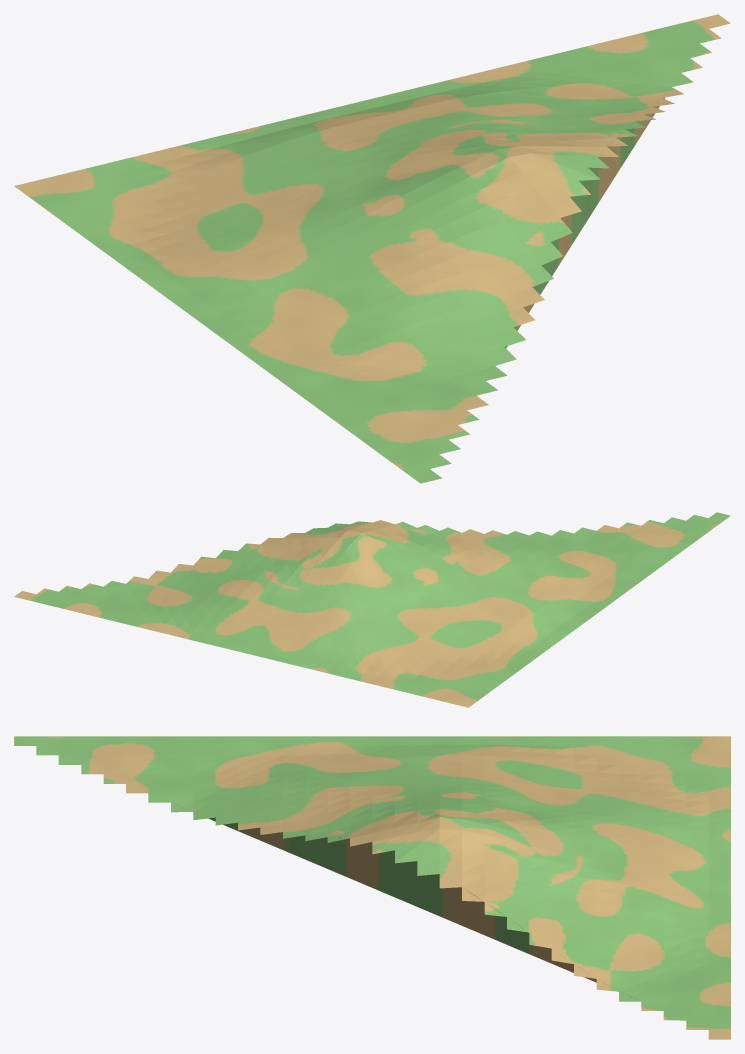
File: Grass_Hills_04_SW.obj
3 renders of one model, top to bottom at view 1: azimuth 30°, elevation 25°; view 2: azimuth 150°, elevation 25°; view 3: azimuth 270°, elevation 25°, orthographic. The views are drawn at different scales.
Size of the model in its own units: 10 by 0.9425 by 10.
Materials: 1 (1 with a texture image).
